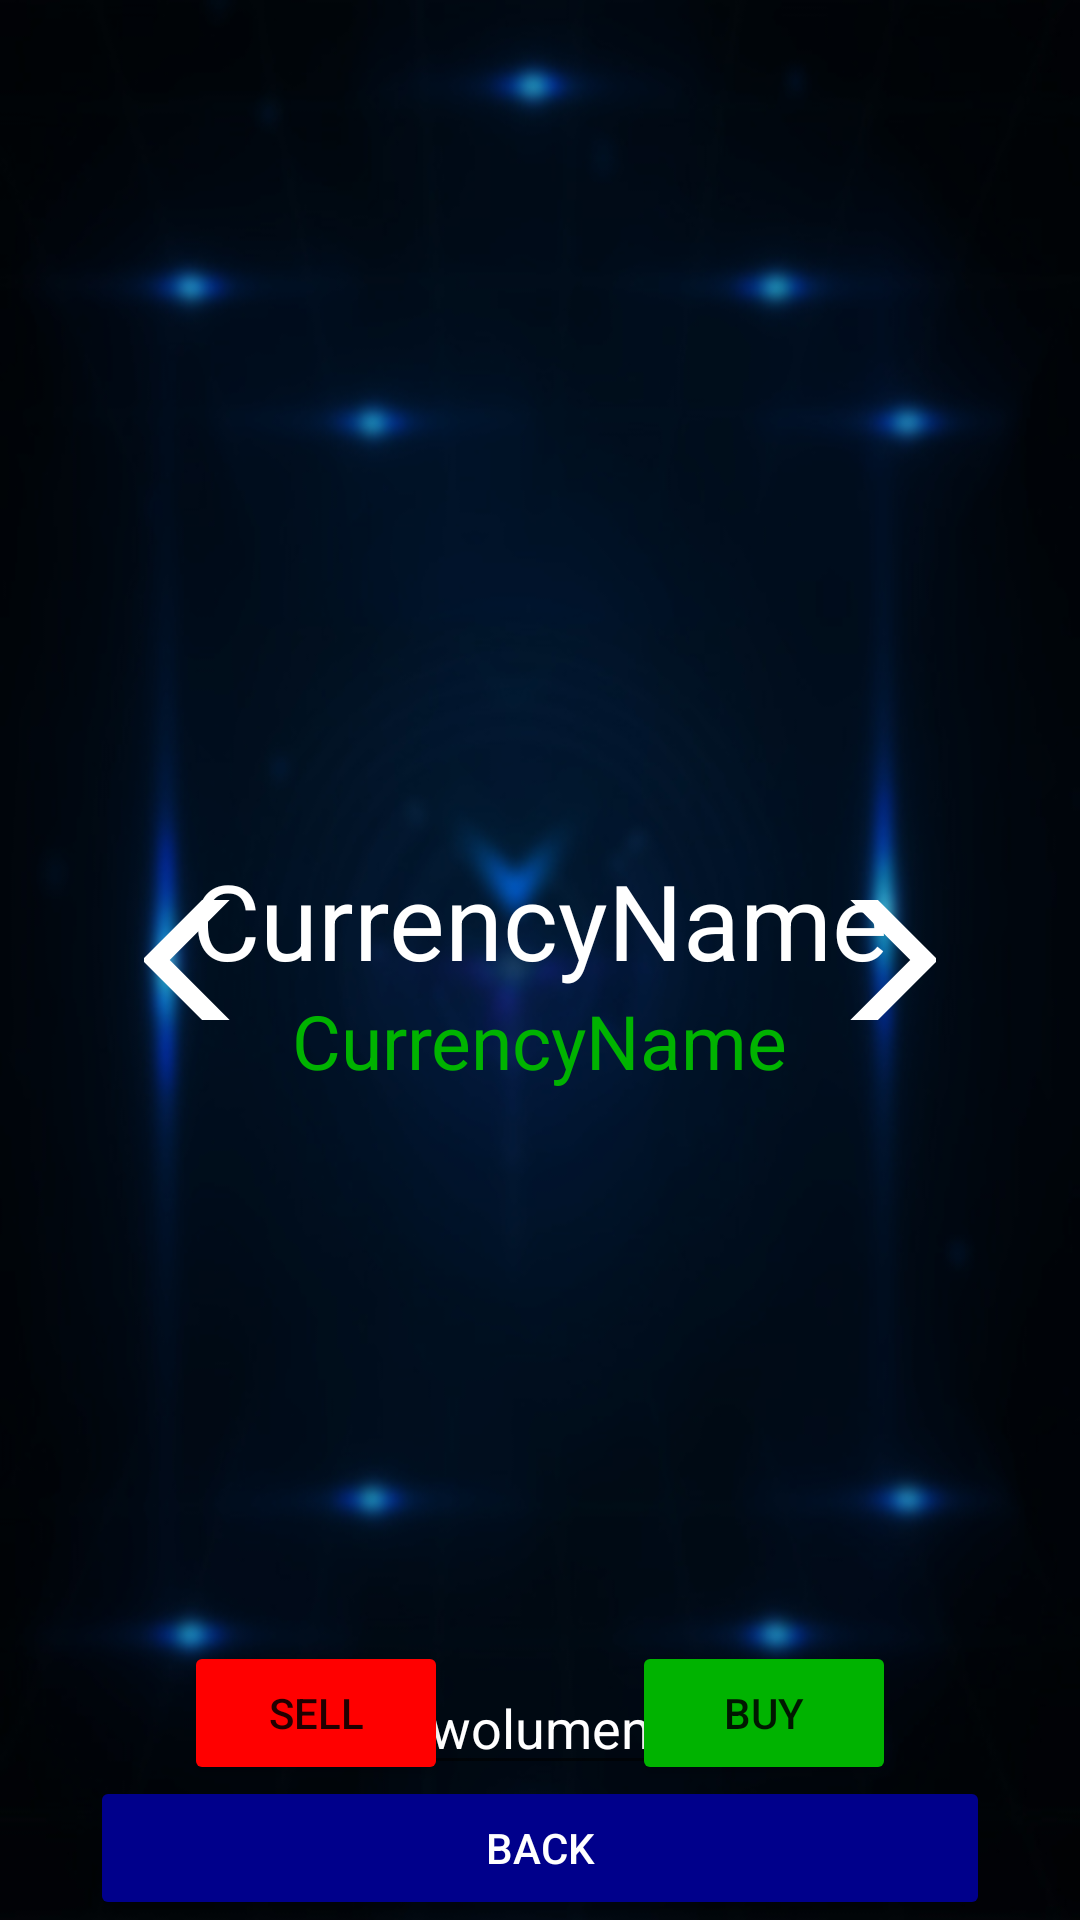

Point at icon controls on the screen. Image size 1080w x 1920h, points as (x=x, y=y).
arrowl: (x=189, y=960)
arrowr: (x=891, y=960)
